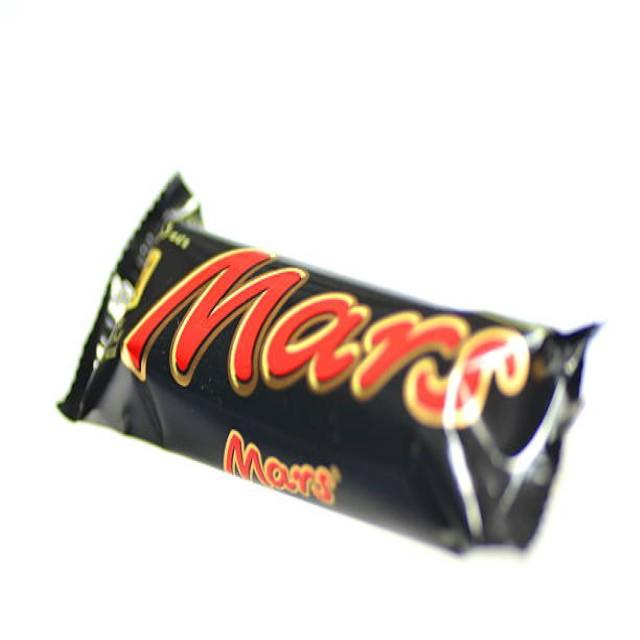mars_chocolate: (115, 182, 582, 543)
